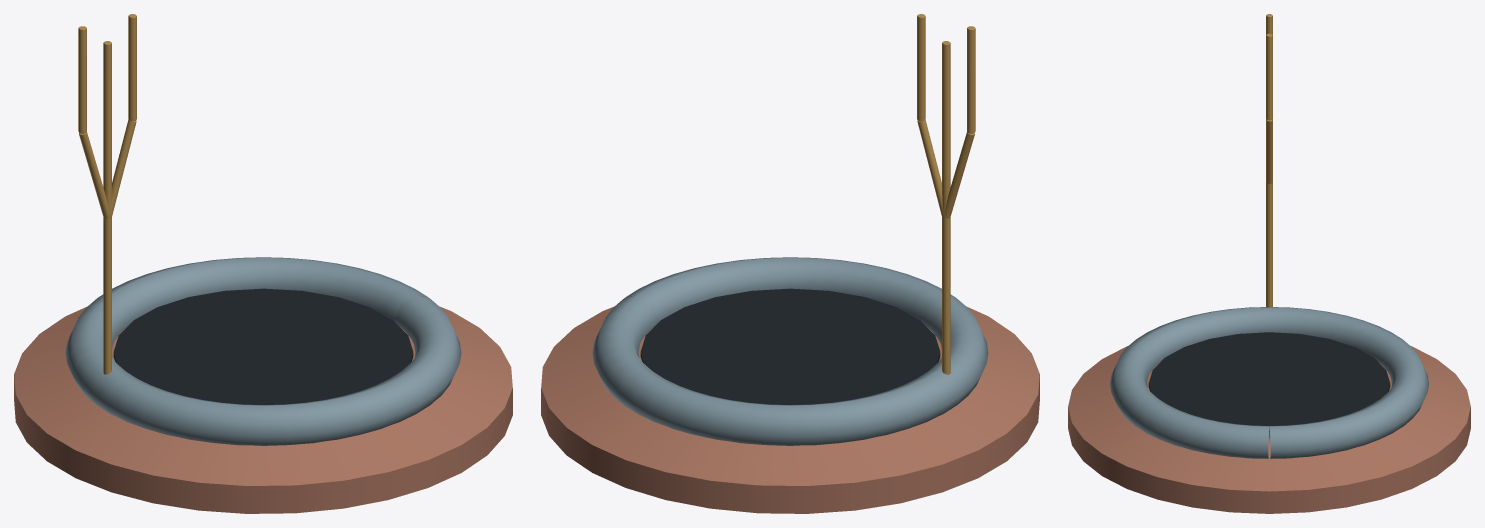
3 views of the same model, side by side, from view 1: azimuth 30°, elevation 25°; view 2: azimuth 150°, elevation 25°; view 3: azimuth 270°, elevation 25° (orthographic). The views are drawn at different scales.
Parts seen in each view (by area): view 1: Terraced oval hull, Raised open bay rim, Dark open bay, Aerial stem, Aerial fork tine.001, Aerial fork tine, Aerial fork, Aerial fork.001; view 2: Terraced oval hull, Raised open bay rim, Dark open bay, Aerial stem, Aerial fork tine.001, Aerial fork tine, Aerial fork, Aerial fork.001; view 3: Terraced oval hull, Raised open bay rim, Dark open bay, Aerial stem, Aerial fork tine.001.
Part boxes in pixels (bbox=[...]): Terraced oval hull: bbox=[14, 306, 512, 513]; Raised open bay rim: bbox=[65, 257, 461, 445]; Dark open bay: bbox=[113, 288, 413, 404]; Aerial stem: bbox=[103, 41, 111, 374]; Aerial fork tine.001: bbox=[128, 14, 136, 121]; Aerial fork tine: bbox=[78, 26, 86, 133]; Aerial fork: bbox=[79, 132, 109, 218]; Aerial fork.001: bbox=[110, 120, 136, 217]; Terraced oval hull: bbox=[541, 306, 1039, 513]; Raised open bay rim: bbox=[592, 257, 988, 445]; Dark open bay: bbox=[640, 288, 940, 404]; Aerial stem: bbox=[942, 41, 950, 374]; Aerial fork tine.001: bbox=[917, 14, 925, 121]; Aerial fork tine: bbox=[967, 26, 975, 133]; Aerial fork: bbox=[944, 132, 974, 218]; Aerial fork.001: bbox=[917, 120, 943, 217]; Terraced oval hull: bbox=[1068, 346, 1470, 513]; Raised open bay rim: bbox=[1110, 307, 1428, 458]; Dark open bay: bbox=[1148, 332, 1390, 425]; Aerial stem: bbox=[1266, 182, 1272, 307]; Aerial fork tine.001: bbox=[1266, 33, 1272, 120].
Size of the model in its own units: 2.6 by 2.54 by 2.6.
